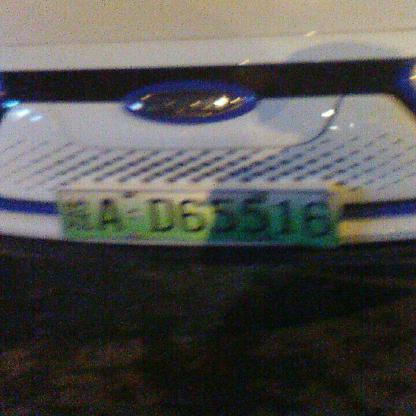lp: (58, 192, 336, 247)
